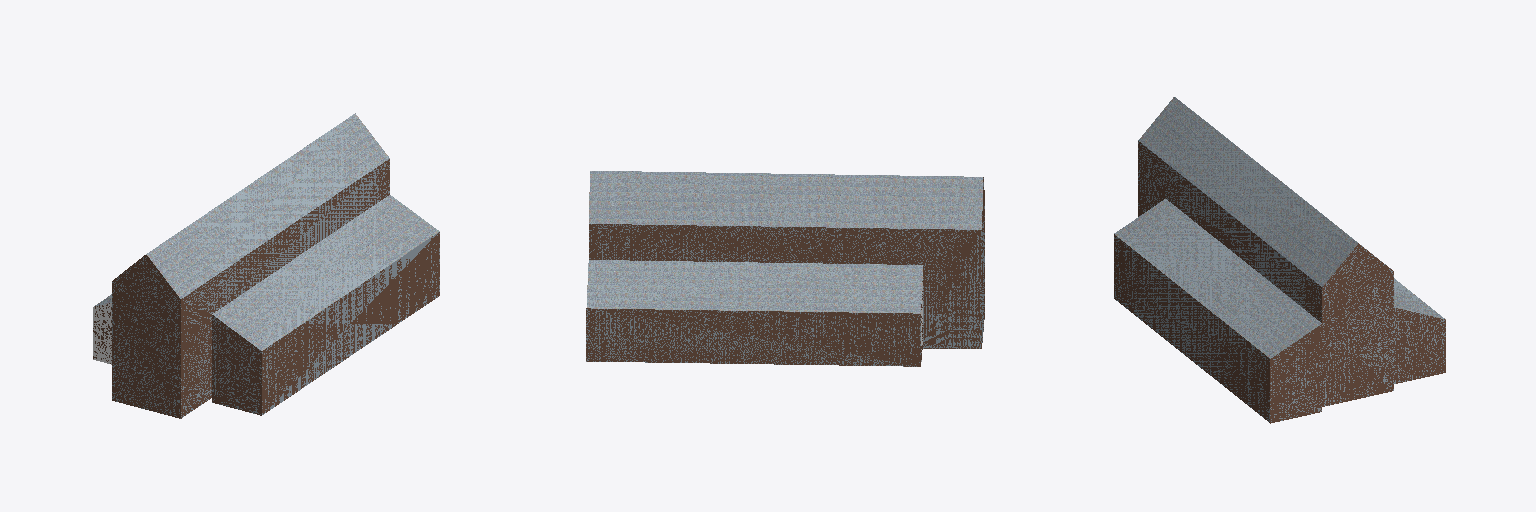
3 views of the same model, side by side, from view 1: azimuth 30°, elevation 25°; view 2: azimuth 150°, elevation 25°; view 3: azimuth 270°, elevation 25° (orthographic).
Parts seen in each view (by area): view 1: Mesh1 Group1 Model; view 2: Mesh1 Group1 Model; view 3: Mesh1 Group1 Model.
Boxes of the visible parts, x1,y1,x2,y2 form: Mesh1 Group1 Model: [93, 113, 439, 418]; Mesh1 Group1 Model: [586, 171, 984, 366]; Mesh1 Group1 Model: [1114, 97, 1445, 423].
Size of the model in its own units: 86.64 by 37.1 by 69.66.
4 materials, 1 textured.